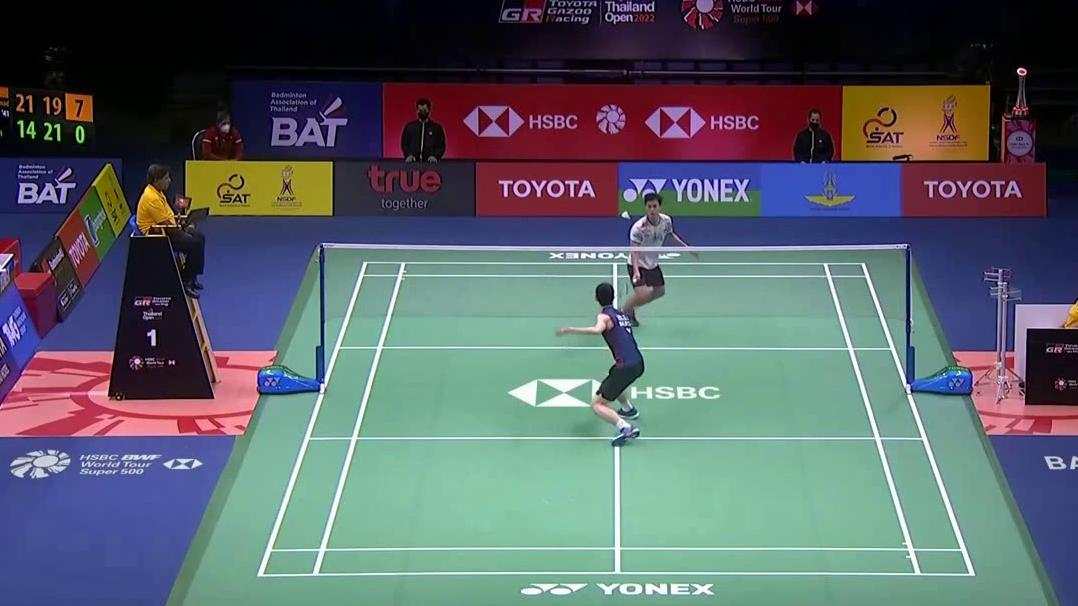racket: (619, 277, 643, 305)
shuttle: (620, 209, 632, 221)
